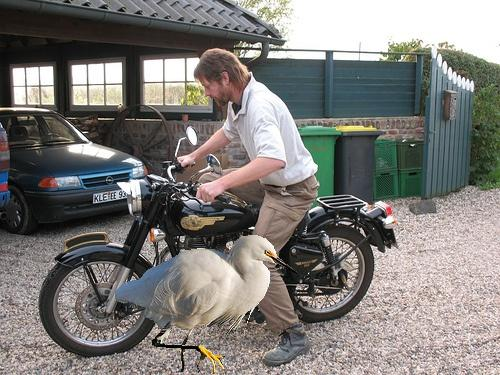tampered: (115, 236, 305, 374)
